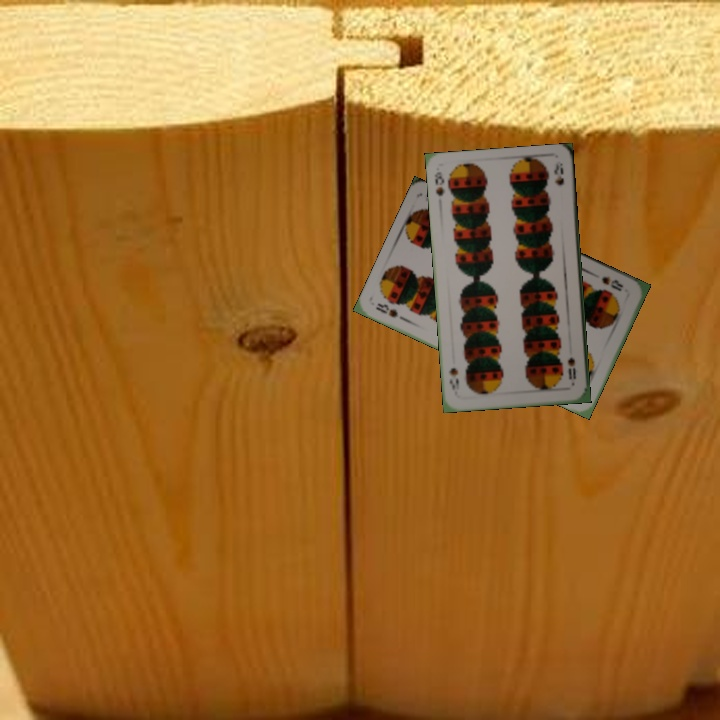S8: (371, 299, 409, 324), (598, 272, 626, 294), (430, 168, 447, 199), (564, 353, 578, 382)
